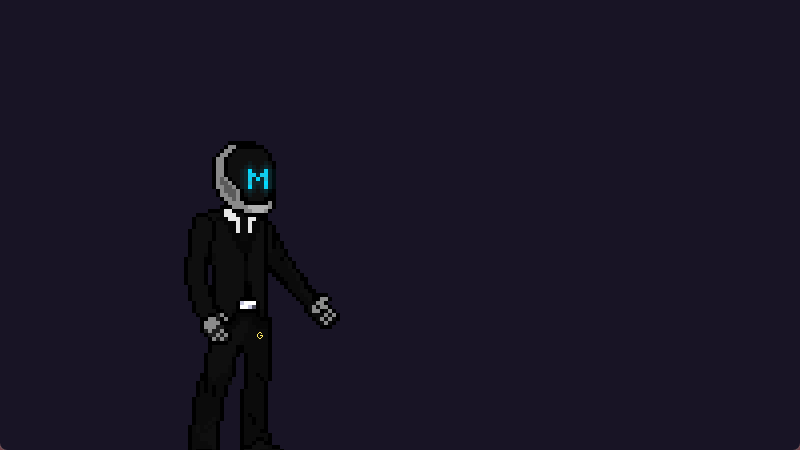next_screen_stop: (8, 11, 788, 434)
